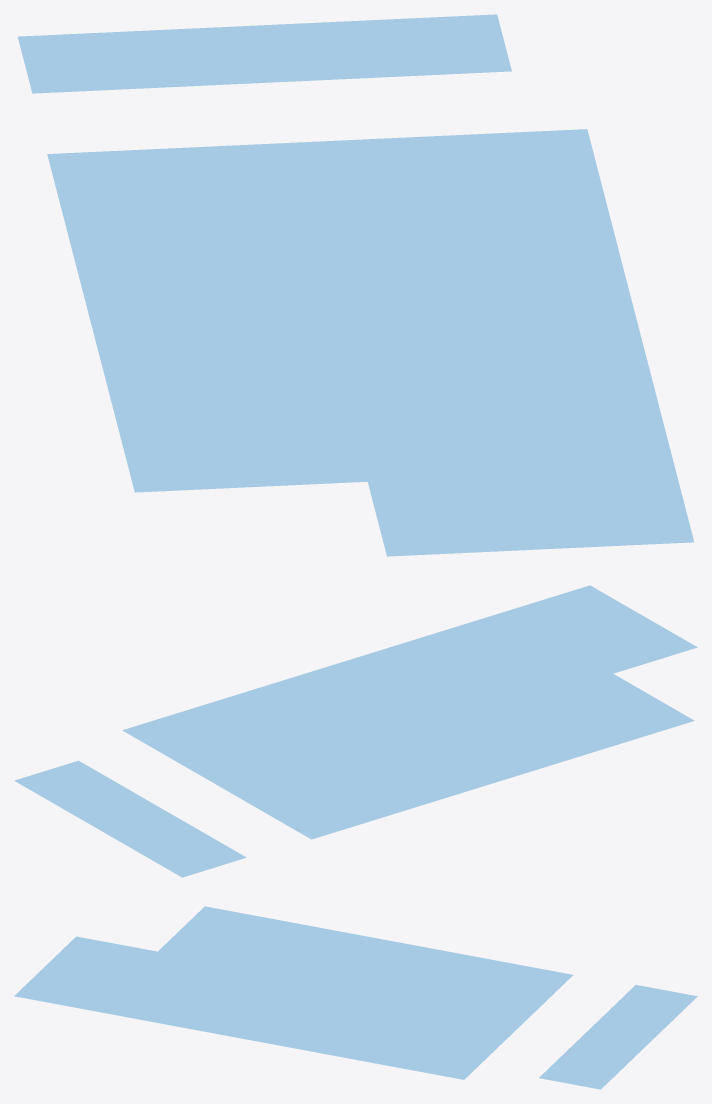
File: MRV_SC_Exterior_Piscina_Agua.fbx
3 renders of one model, top to bottom at view 1: azimuth 30°, elevation 25°; view 2: azimuth 150°, elevation 25°; view 3: azimuth 270°, elevation 25°, orthographic. The views are drawn at different scales.
Visible parts, largest first — view 1: Area_Piscina_Agua; view 2: Area_Piscina_Agua; view 3: Area_Piscina_Agua.
Part boxes in pixels (x1,y1,x2,y2): Area_Piscina_Agua: [18, 14, 693, 556]; Area_Piscina_Agua: [14, 585, 697, 877]; Area_Piscina_Agua: [14, 906, 697, 1089].
Bounding box in the file's own units: 935 × 3.96 × 1460.
